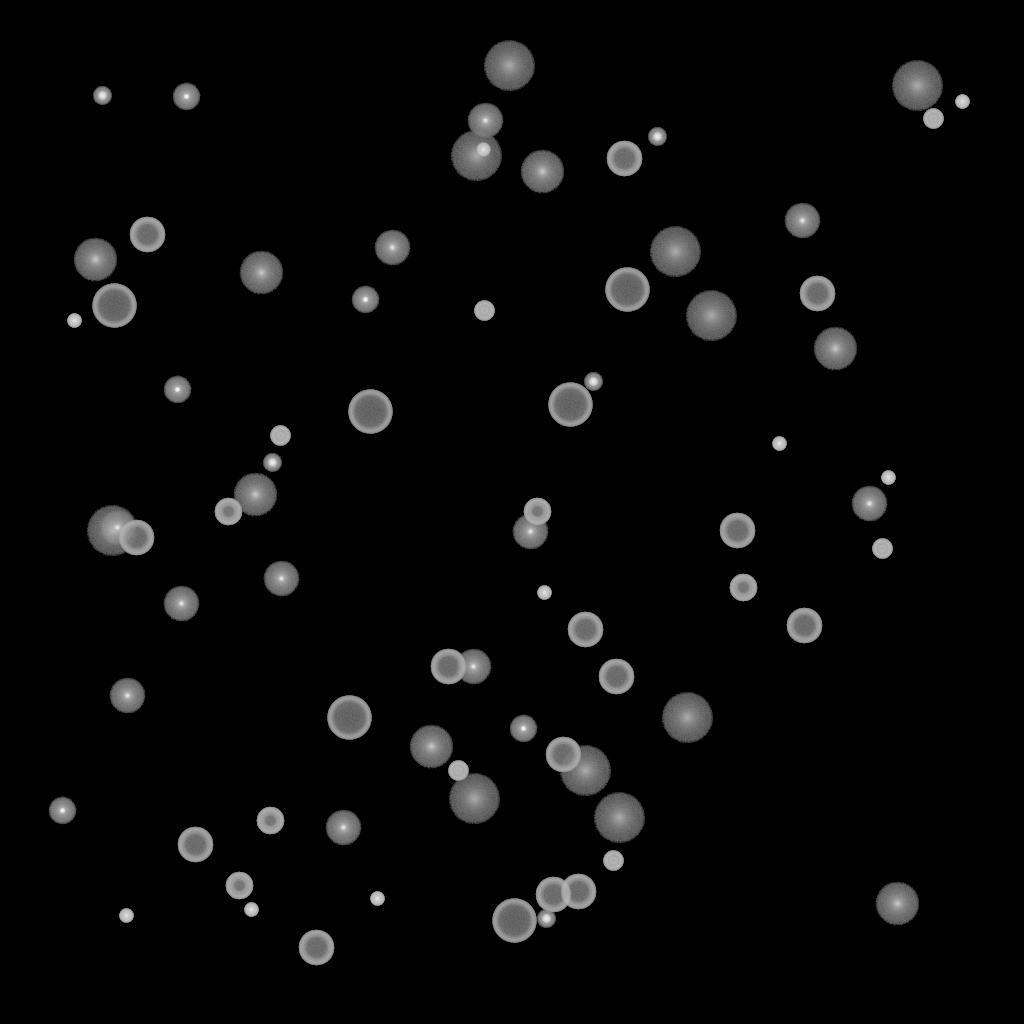depth:-10: (172, 83, 200, 111), (48, 797, 76, 825), (509, 715, 537, 743), (163, 376, 191, 404), (351, 286, 379, 314)
depth:-20: (263, 454, 281, 472), (537, 910, 555, 928), (93, 87, 111, 105), (648, 128, 666, 146), (584, 373, 602, 391)
depth:-30: (537, 586, 551, 600), (370, 892, 384, 906), (772, 437, 786, 451), (476, 143, 490, 157), (119, 909, 133, 923), (244, 903, 258, 917), (881, 471, 895, 485), (67, 314, 81, 328), (955, 95, 969, 109)
depth:-40: (270, 426, 290, 446), (474, 301, 494, 321), (923, 109, 943, 129), (448, 761, 468, 781), (603, 851, 623, 871), (872, 539, 892, 559)
depth:-50: (225, 872, 253, 900), (214, 498, 242, 526), (256, 807, 284, 835), (729, 574, 757, 602), (523, 498, 551, 526)
depth:-60: (560, 874, 596, 910), (567, 612, 603, 648), (598, 659, 634, 695), (535, 877, 571, 913), (606, 141, 642, 177), (129, 217, 165, 253), (430, 649, 466, 685), (799, 276, 835, 312), (545, 737, 581, 773), (177, 827, 213, 863), (719, 513, 755, 549), (786, 608, 822, 644), (118, 520, 154, 556), (298, 930, 334, 966)
depth:-70: (327, 696, 371, 740), (92, 284, 136, 328), (548, 383, 592, 427), (492, 899, 536, 943), (605, 268, 649, 312), (348, 390, 392, 434)
depth:0: (99, 510, 135, 546), (163, 586, 199, 622), (325, 810, 361, 846), (784, 203, 820, 239), (467, 103, 503, 139), (512, 514, 548, 550), (455, 649, 491, 685), (851, 486, 887, 522), (263, 561, 299, 597), (374, 230, 410, 266), (109, 678, 145, 714)
depth:10: (520, 150, 564, 194), (813, 327, 857, 371), (73, 238, 117, 282), (875, 882, 919, 926), (409, 725, 453, 769), (239, 251, 283, 295), (233, 473, 277, 517)
depth:20: (649, 227, 701, 277), (86, 506, 138, 556), (483, 41, 535, 91), (661, 693, 713, 743), (593, 793, 645, 843), (559, 746, 611, 796), (448, 774, 500, 824), (685, 291, 737, 341), (450, 131, 502, 181), (891, 61, 943, 111)
